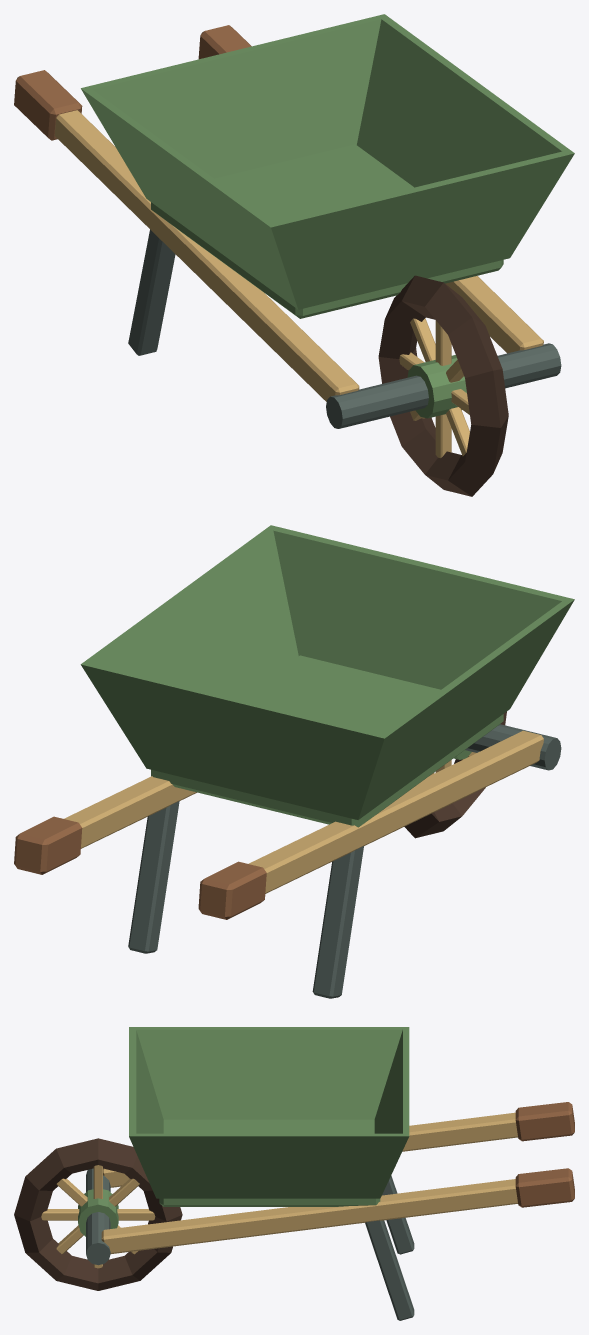
Rendered from 04_Garden_Wheelbarrow.glb.
3 renders of one model, top to bottom at view 1: azimuth 30°, elevation 25°; view 2: azimuth 150°, elevation 25°; view 3: azimuth 270°, elevation 25°, orthographic. The views are drawn at different scales.
Parts seen in each view (by area): view 1: 04_Garden_Wheelbarrow__Body; view 2: 04_Garden_Wheelbarrow__Body; view 3: 04_Garden_Wheelbarrow__Body.
Boxes of the visible parts, x1,y1,x2,y2 form: 04_Garden_Wheelbarrow__Body: [14, 14, 574, 496]; 04_Garden_Wheelbarrow__Body: [14, 525, 574, 998]; 04_Garden_Wheelbarrow__Body: [14, 1027, 574, 1320].
Bounding box in the file's own units: 1.78 × 1.59 × 3.86.
1 material, 1 textured.
